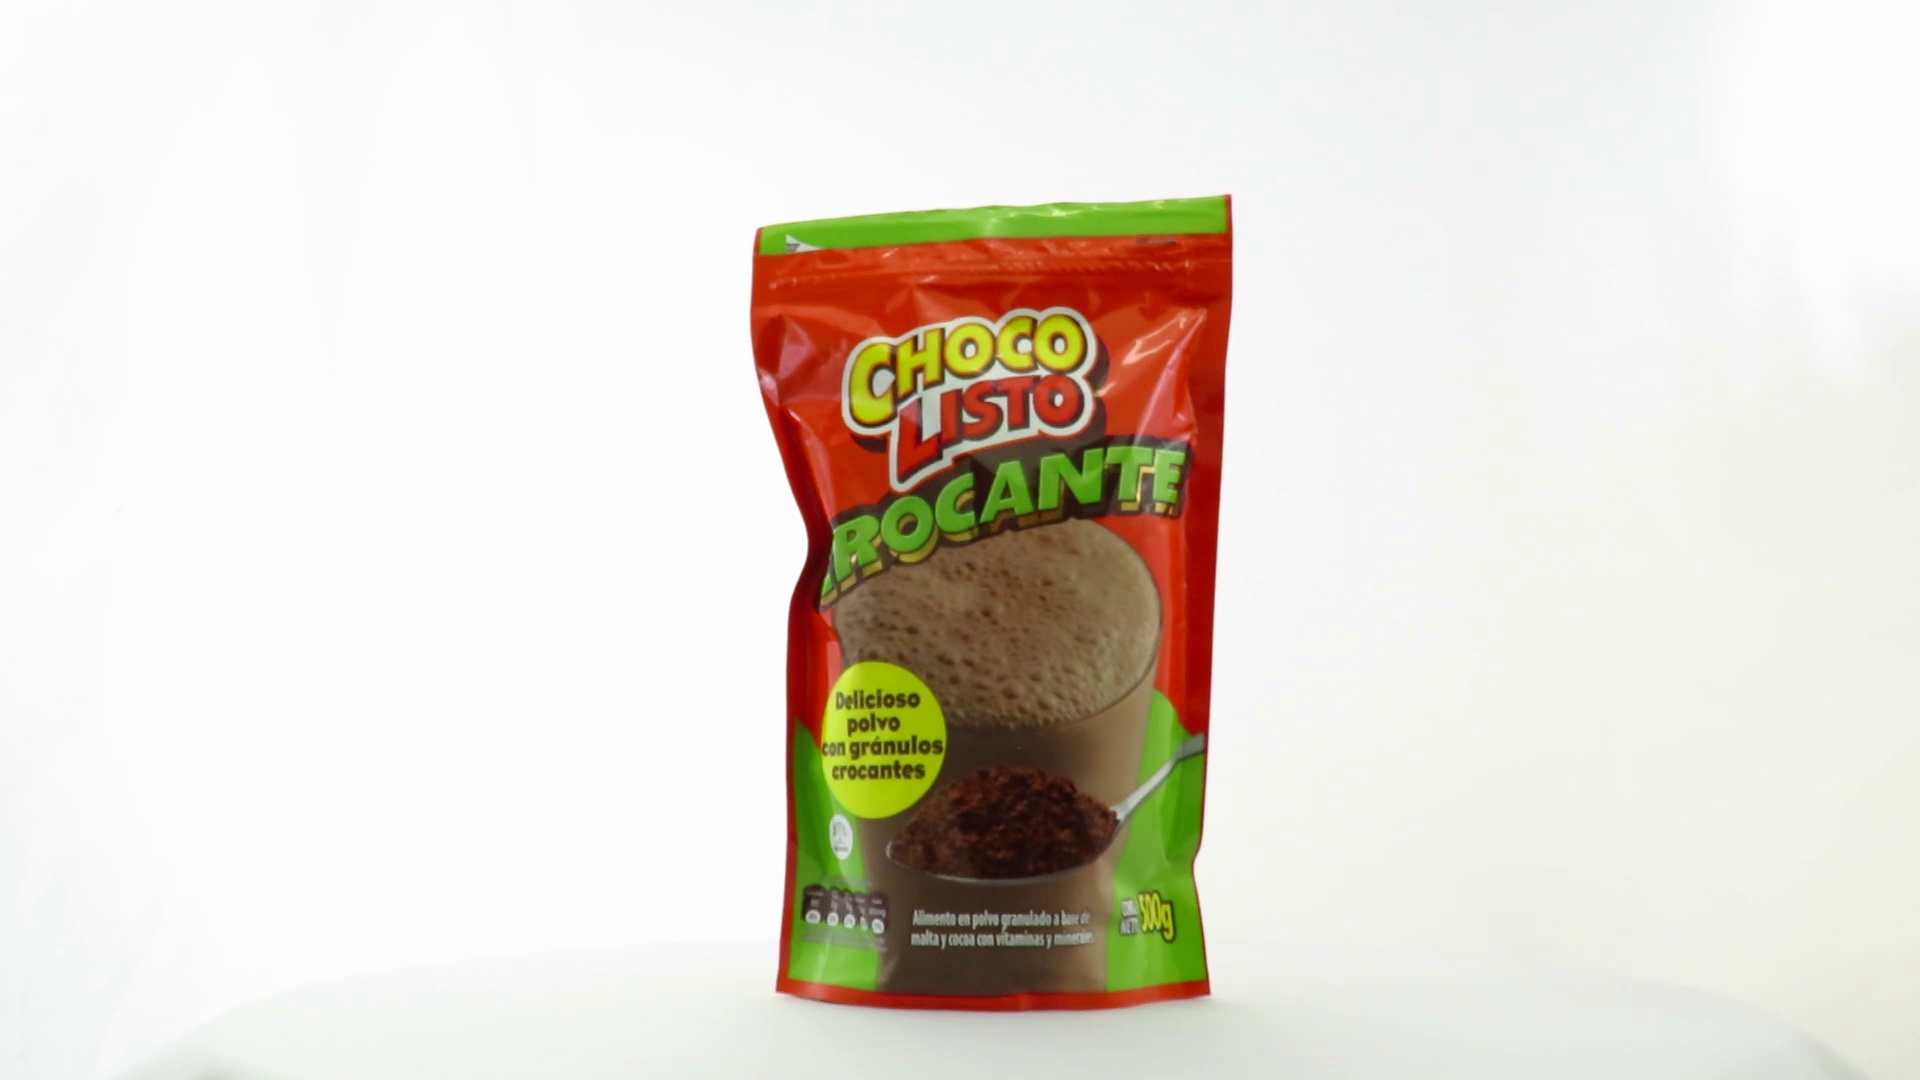COL0170102DYP50000: (745, 189, 1240, 1019)
